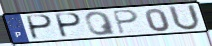0: (143, 7, 172, 33)
P: (55, 12, 85, 39), (26, 14, 56, 40), (111, 9, 140, 35)
Q: (83, 10, 119, 37)
U: (167, 4, 203, 32)
